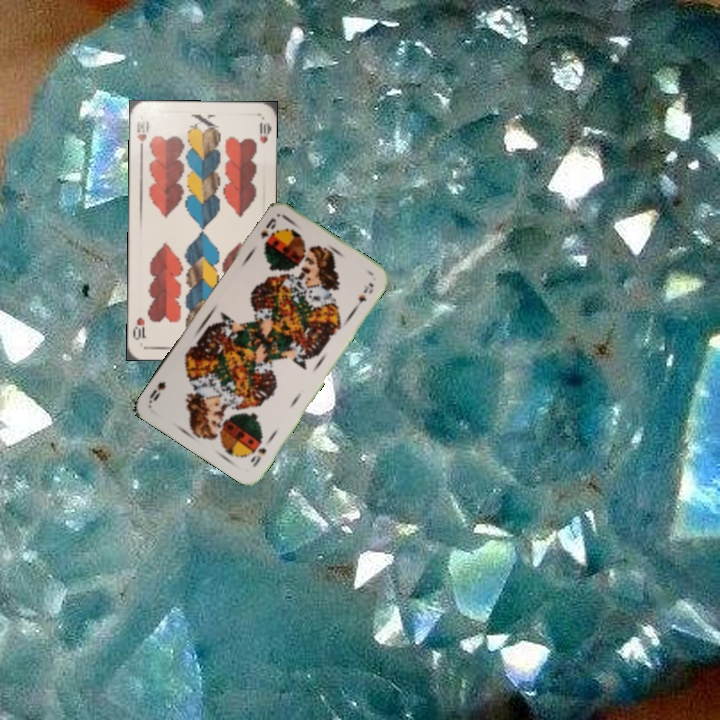H10: (132, 117, 152, 155)
SO: (246, 437, 269, 470), (256, 214, 279, 242)
